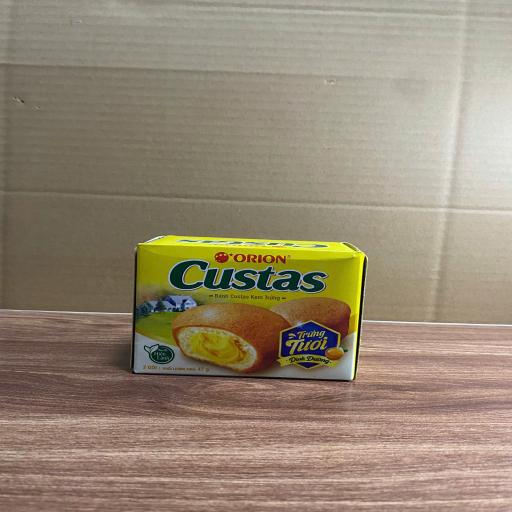custas: (131, 235, 368, 381)
